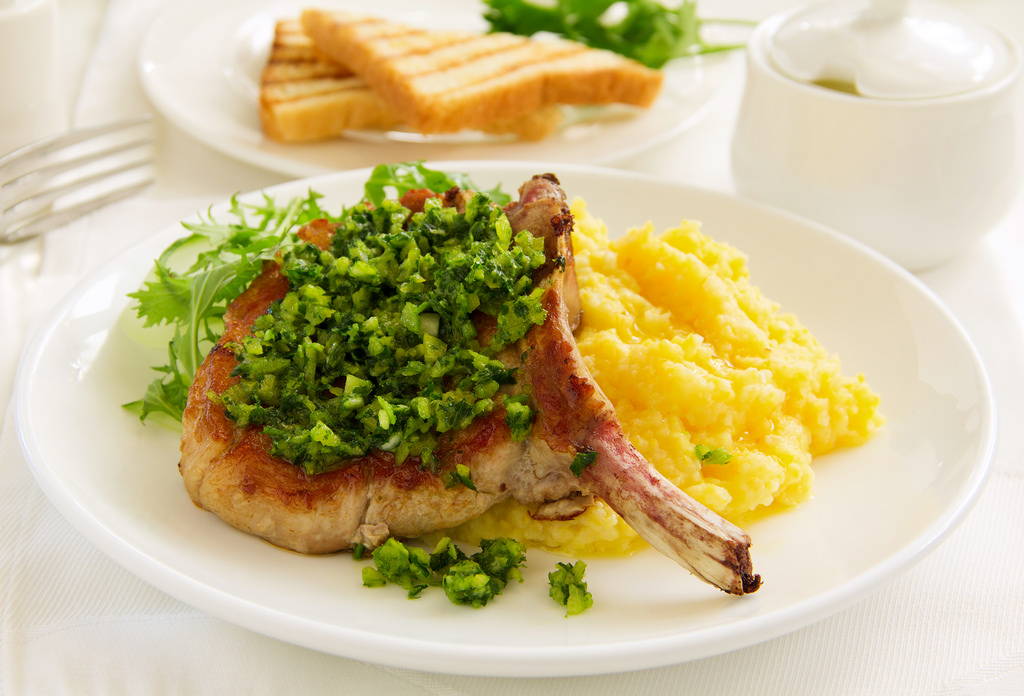slice of bread: (253, 1, 681, 138)
